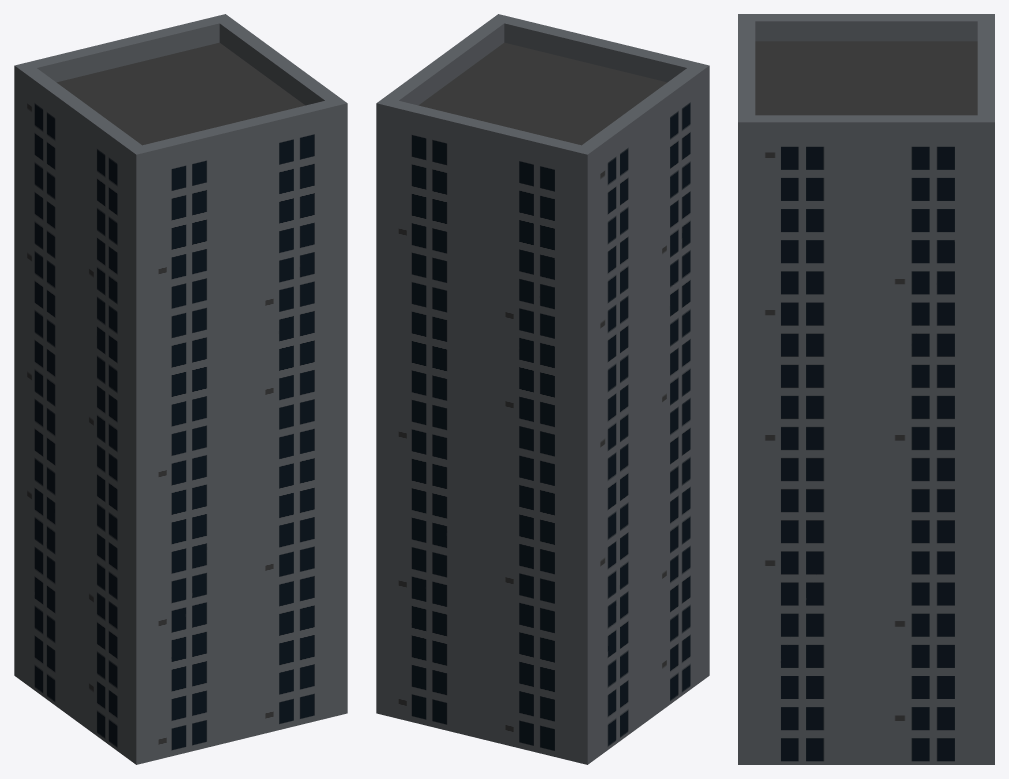
File: SM_Env_Background_Building_Small_06.fbx
3 views of the same model, side by side, from view 1: azimuth 30°, elevation 25°; view 2: azimuth 150°, elevation 25°; view 3: azimuth 270°, elevation 25° (orthographic). The views are drawn at different scales.
Parts seen in each view (by area): view 1: SM_Env_Background_Building_Small_06; view 2: SM_Env_Background_Building_Small_06; view 3: SM_Env_Background_Building_Small_06.
Boxes of the visible parts, x1,y1,x2,y2 form: SM_Env_Background_Building_Small_06: [14, 14, 347, 764]; SM_Env_Background_Building_Small_06: [376, 14, 709, 764]; SM_Env_Background_Building_Small_06: [738, 14, 994, 764].
Bounding box in the file's own units: 1057 × 2918 × 1057.
